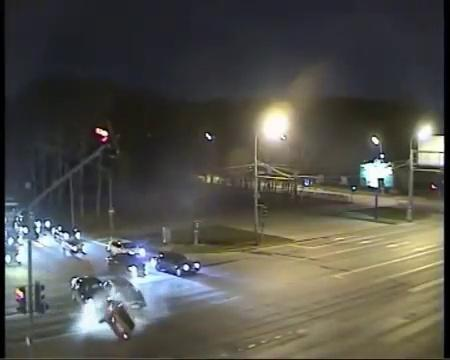car-accident: (72, 274, 146, 343)
